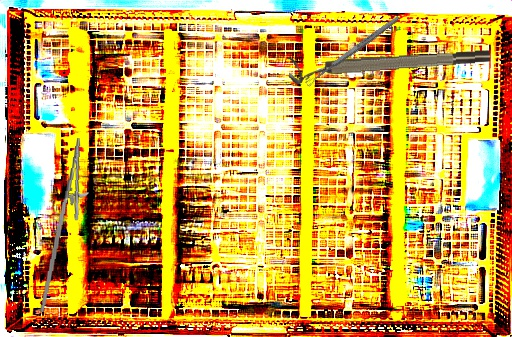Fixation Ring: (288, 46, 491, 85)
Needle Holder: (39, 136, 95, 315)
Surgical Spoon: (304, 14, 401, 88)
